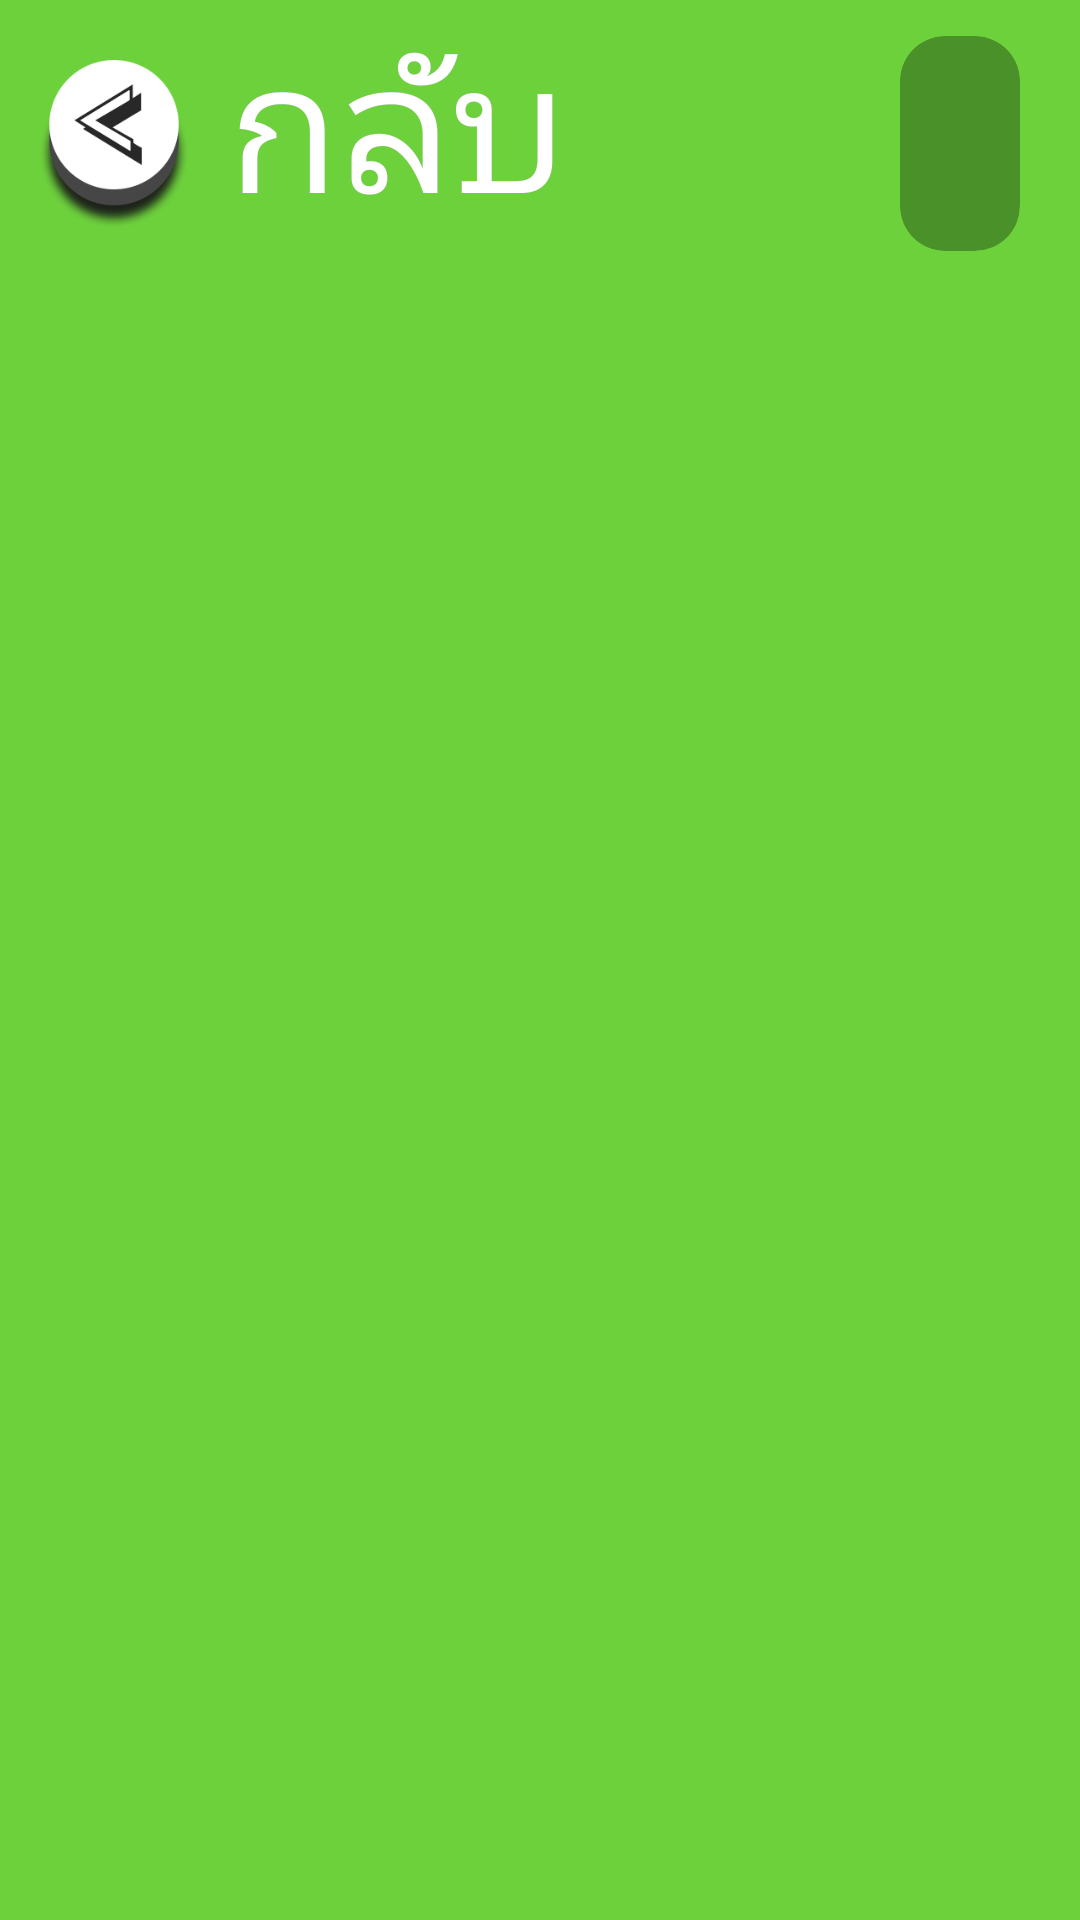

Icon click points for this 1080x1920 phone screenshot, format [x,y]:
back lesson: [114,141]
